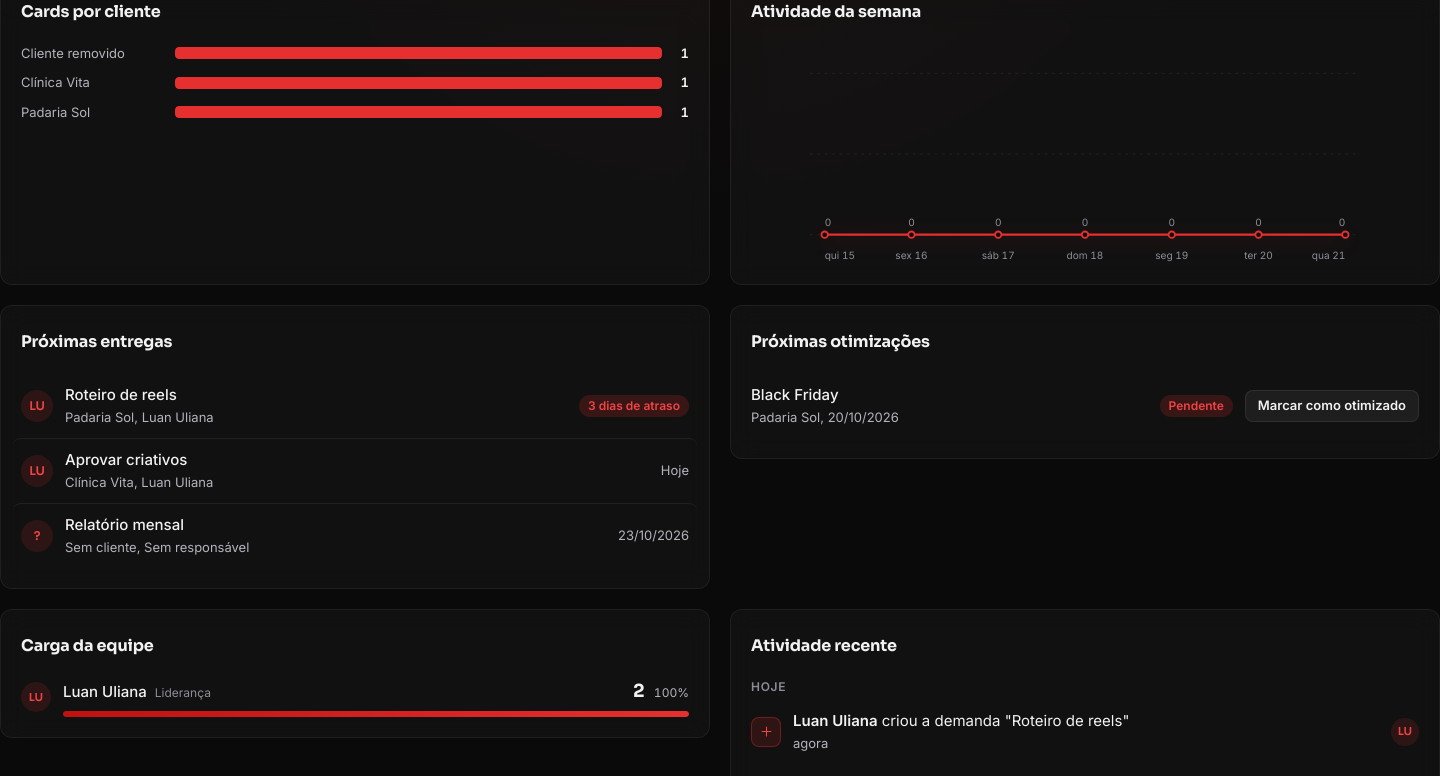
Test: DashboardPage › marcar como otimizado empurra a próxima otimização e registra a atividade
(page scrolled)
Expected: the link "Black Friday" is shown, [751, 385, 838, 404]
What coordinates should you click on to do the following:
click the button "Marcar como otimizado"
I would click on:
 (1332, 406)
Its box is [1245, 390, 1419, 422].
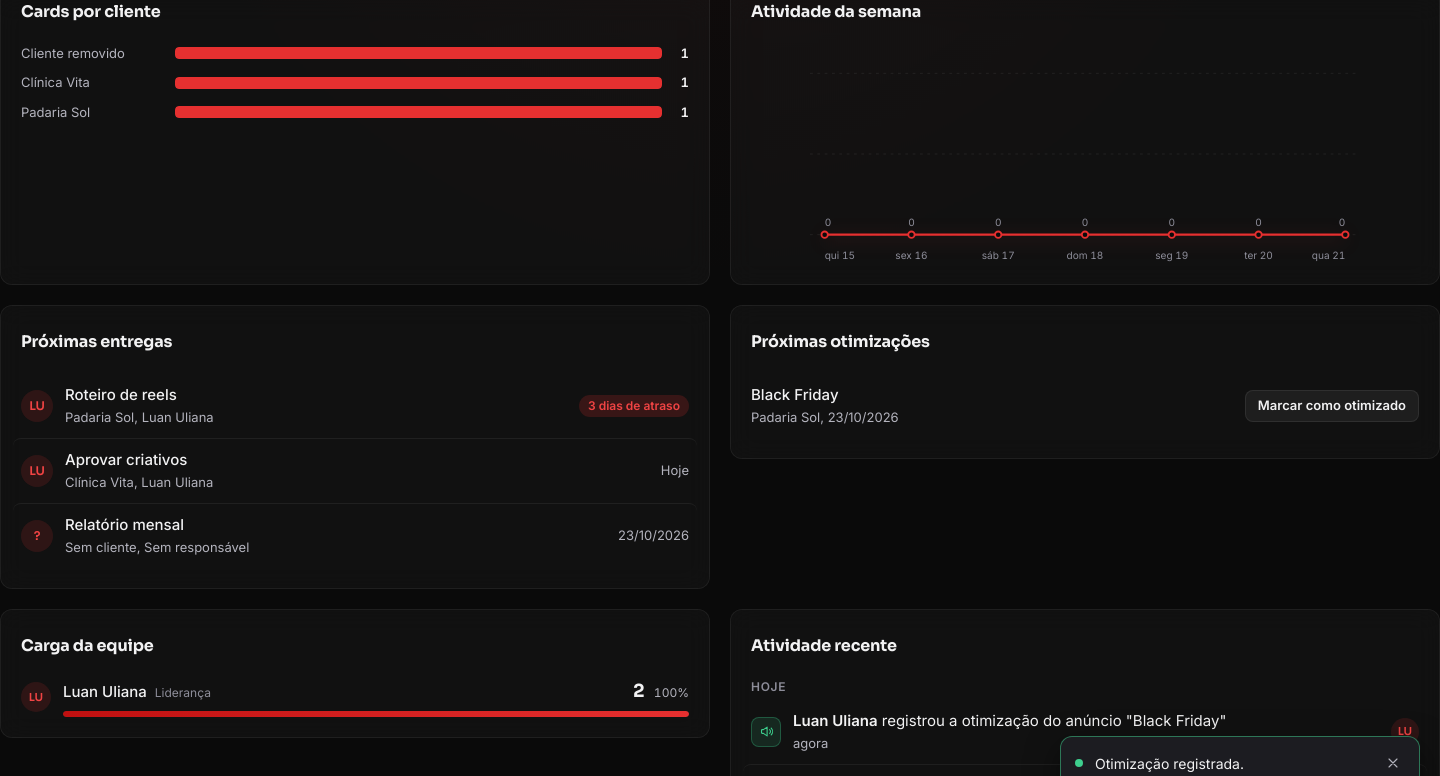
Result: the text "Otimização registrada." is shown at [1095, 754, 1244, 772]
